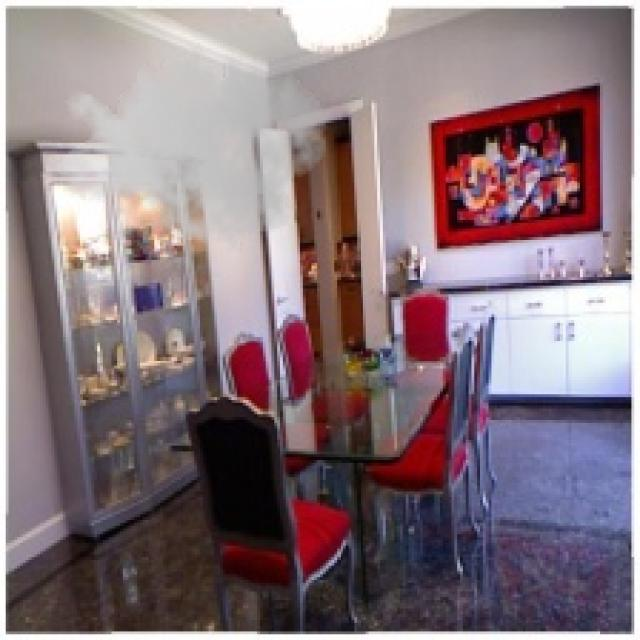smoke: (54, 32, 329, 257)
